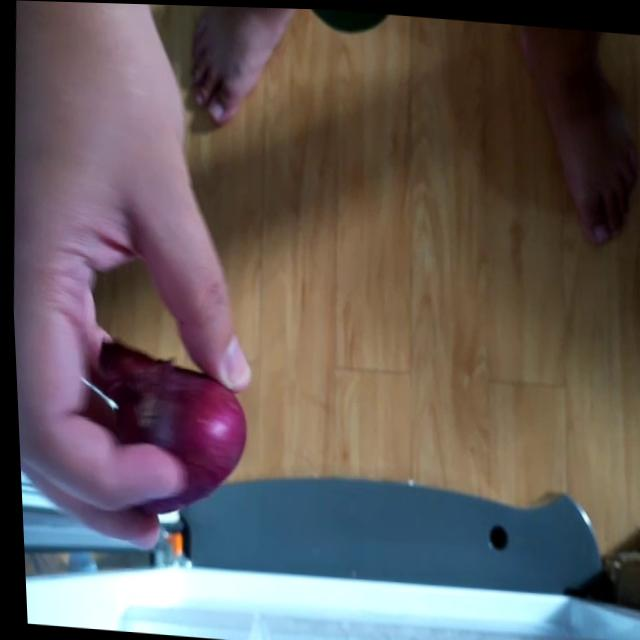onion: (76, 335, 246, 521)
